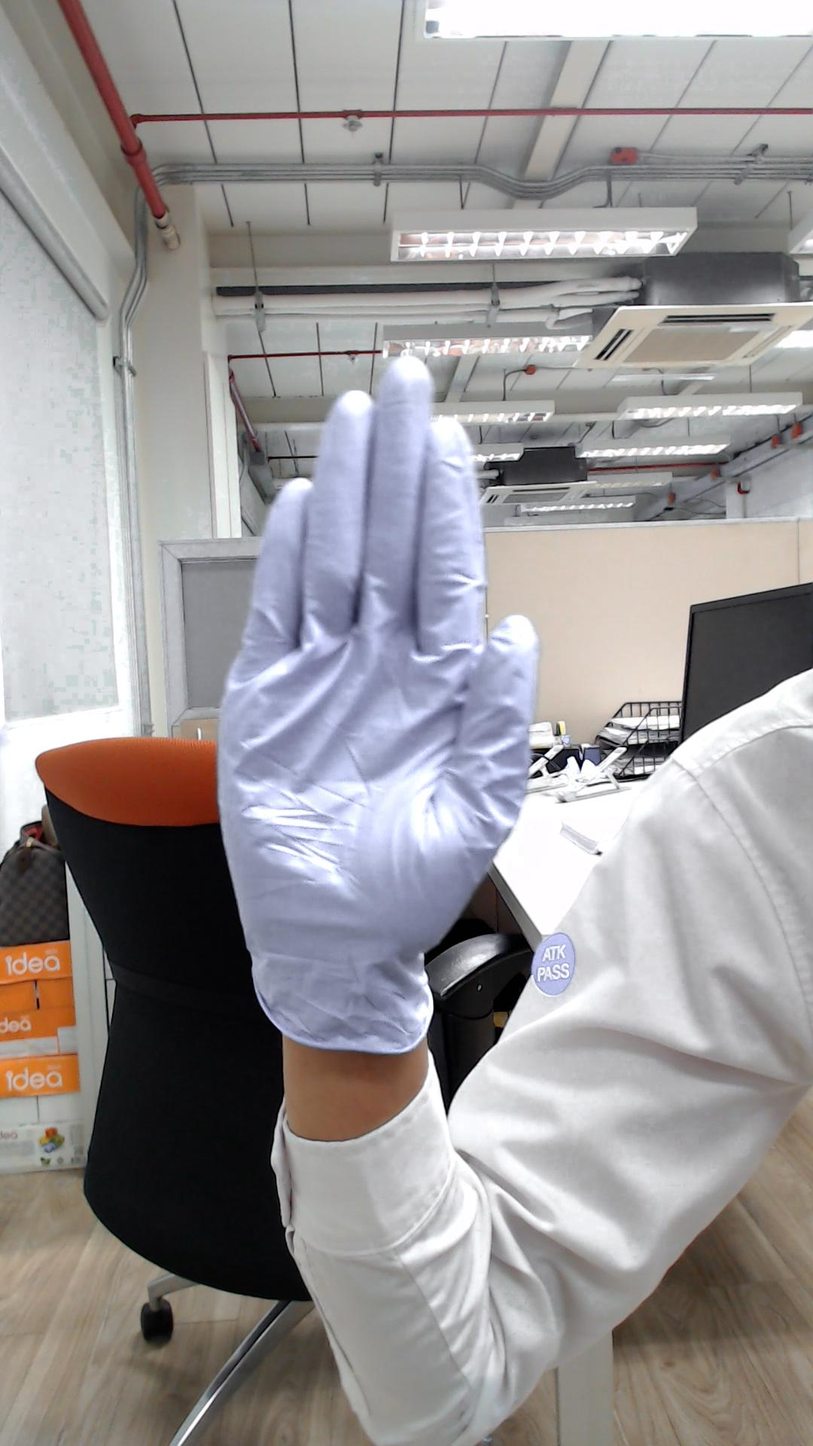gloves: (205, 331, 543, 987)
